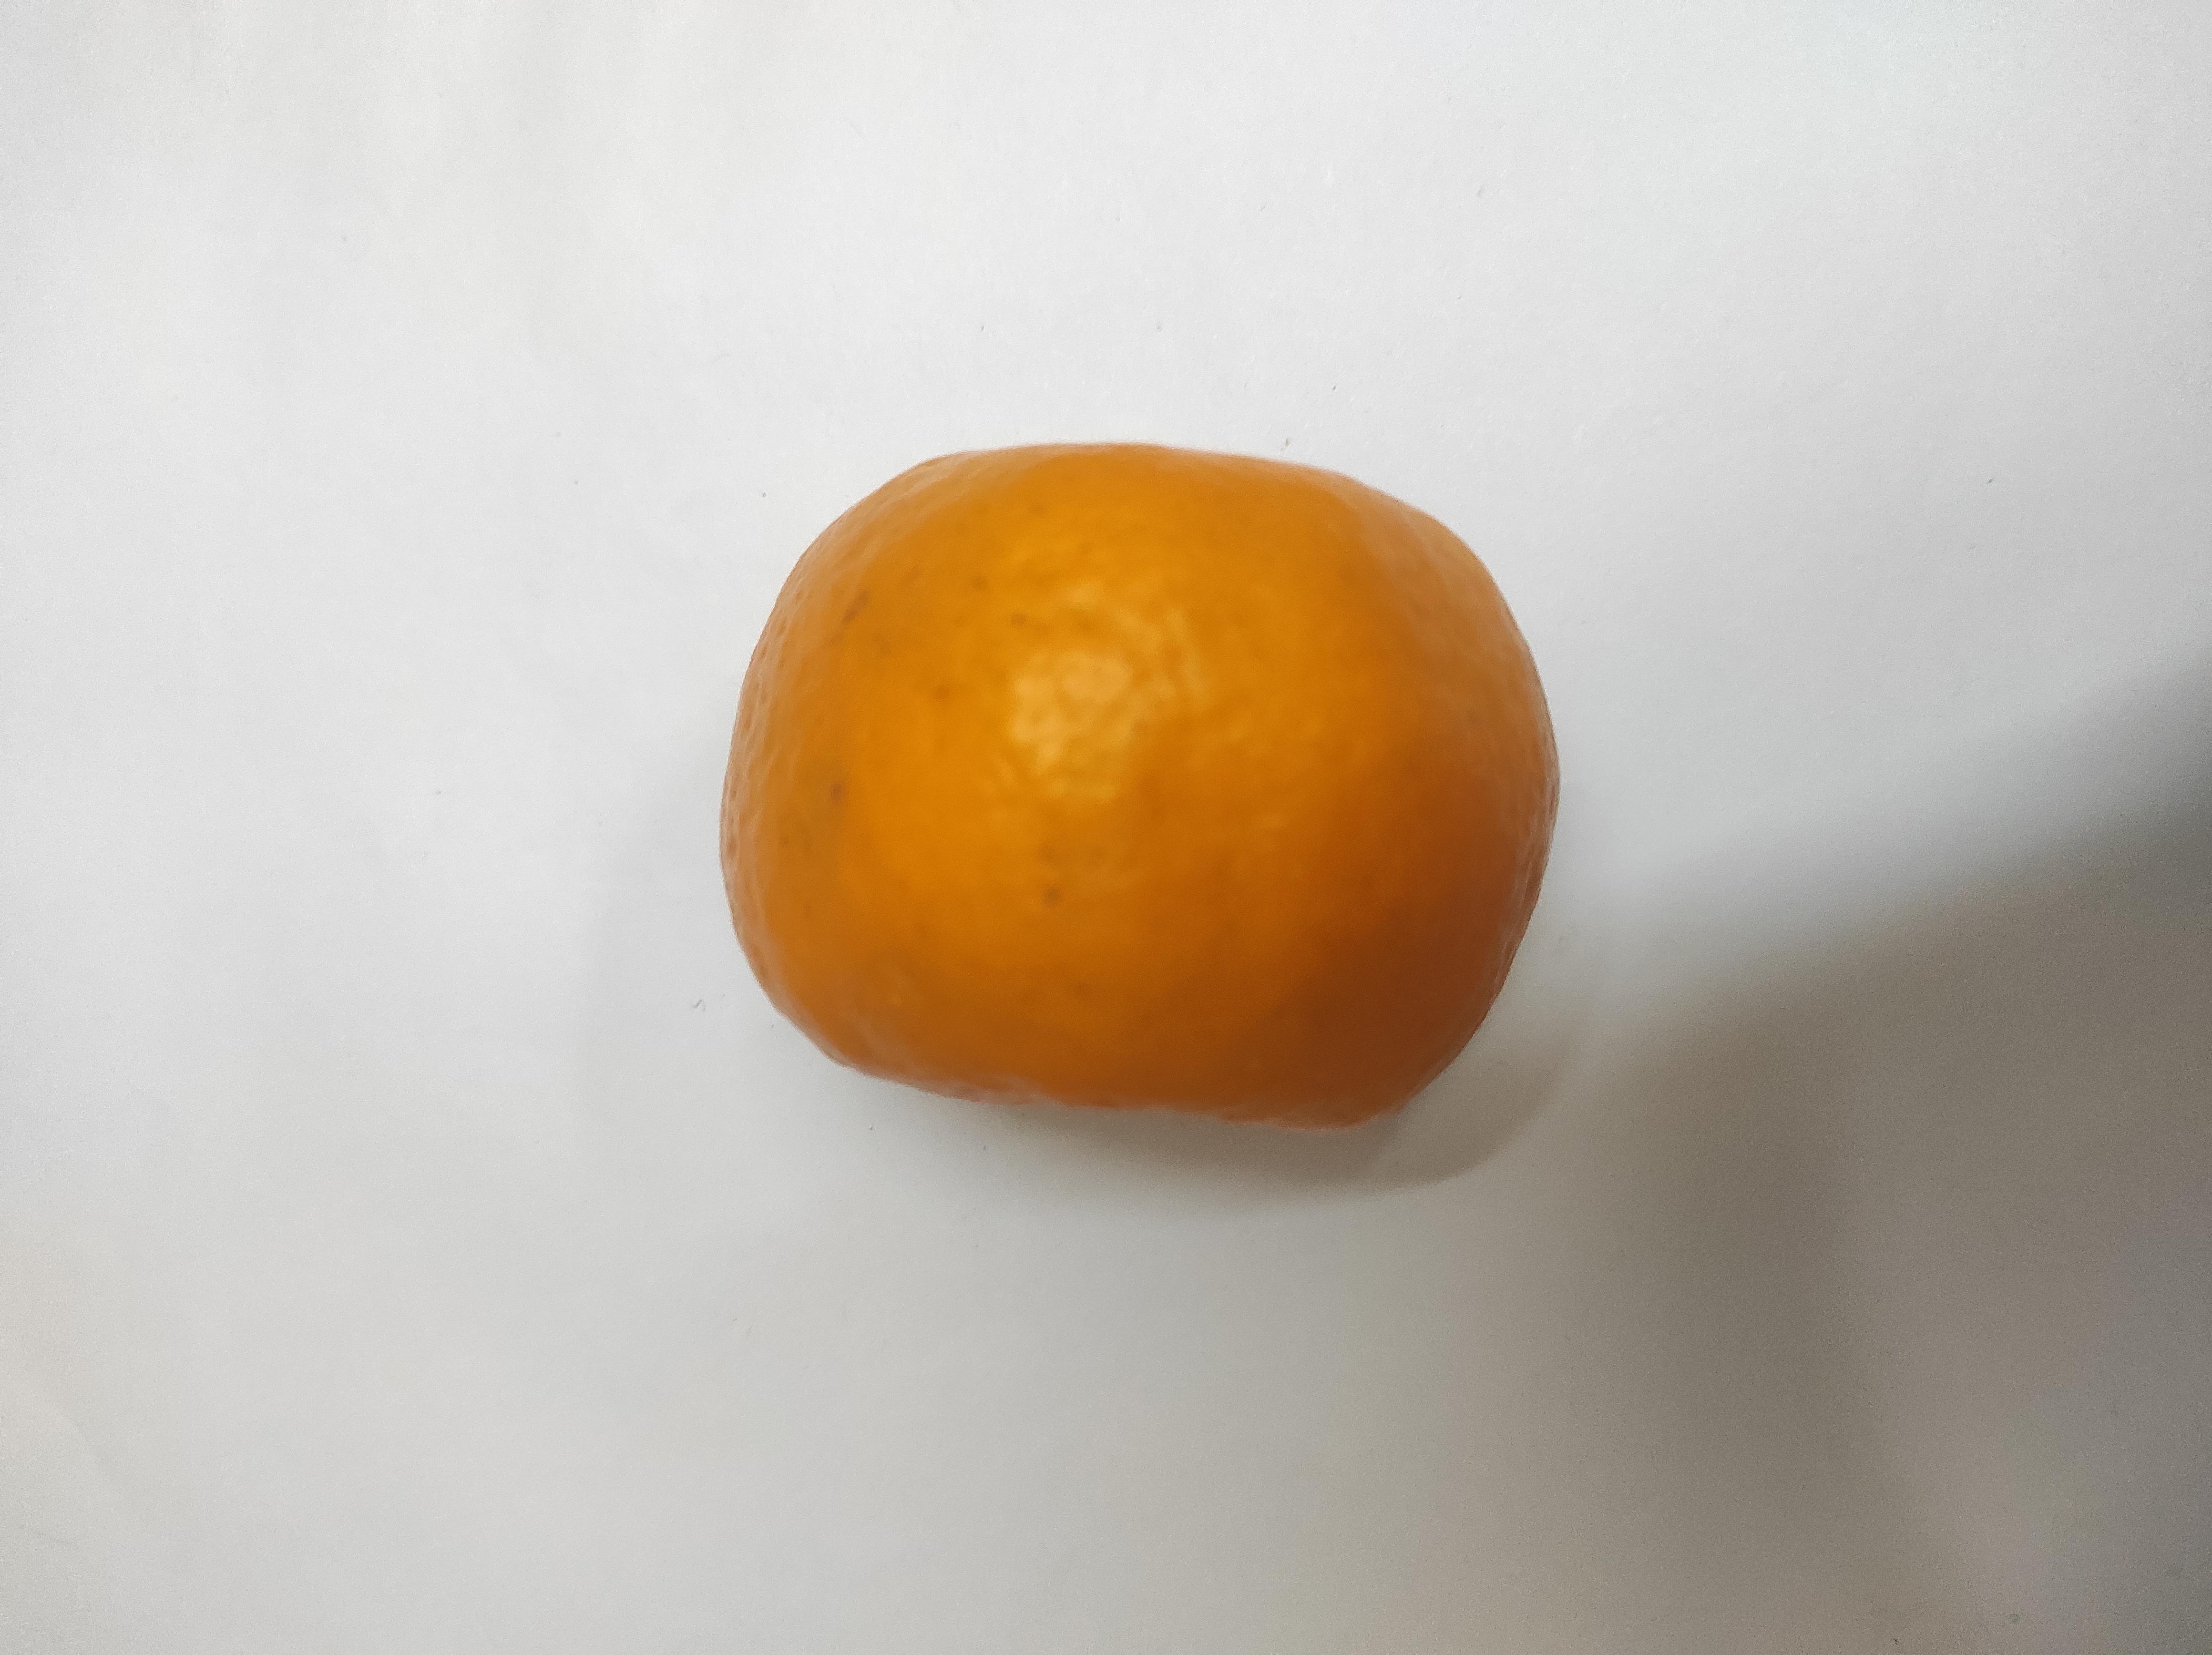Ripe: (725, 443, 1549, 1100)
